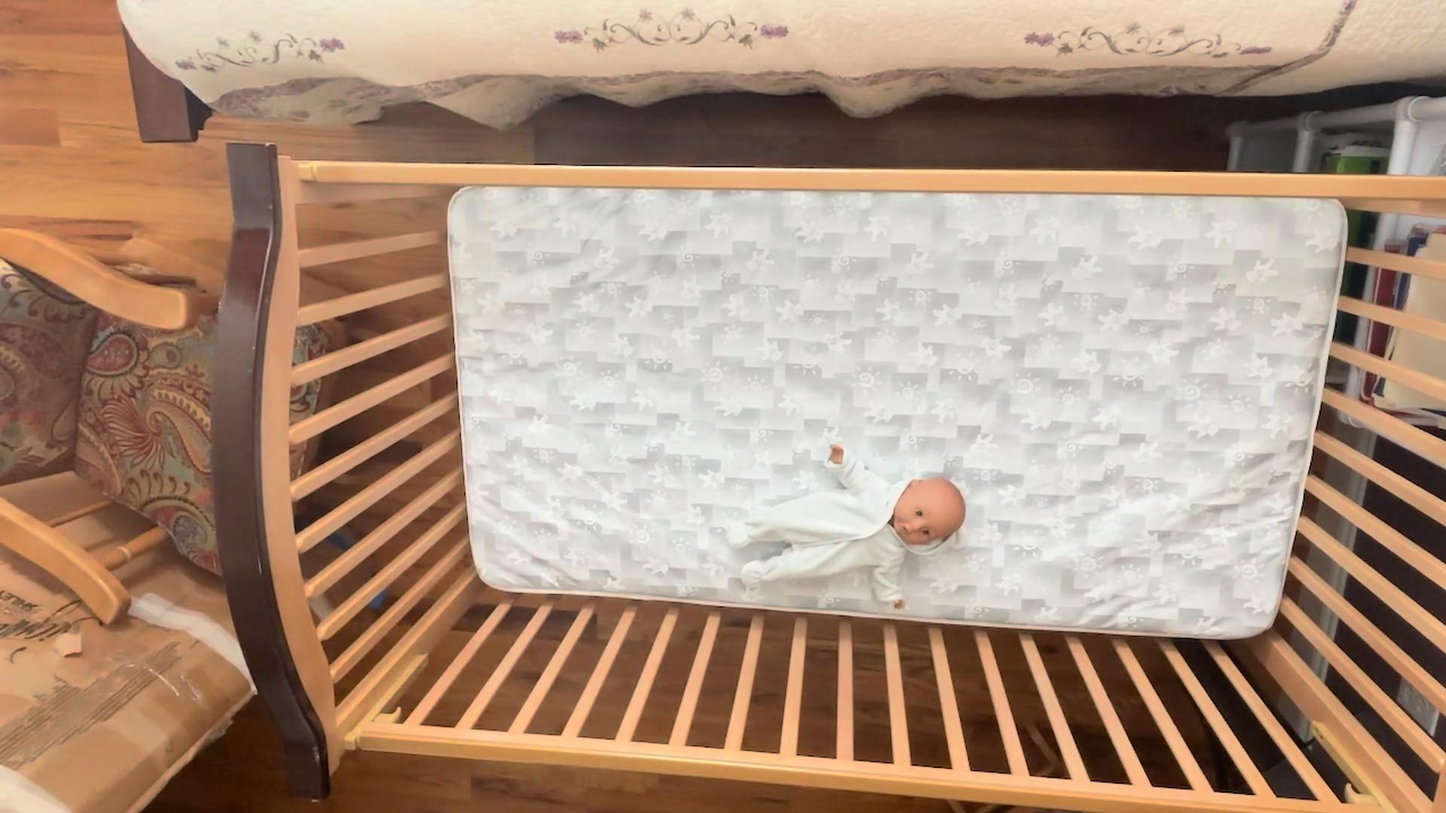baby: (728, 438, 975, 615)
